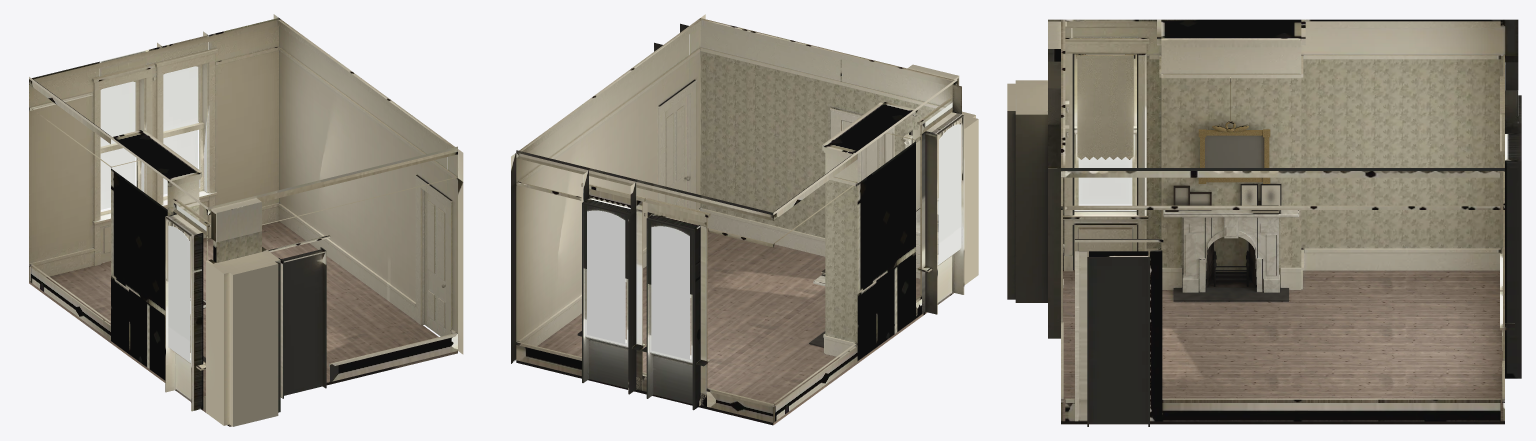
Rendered from muir-martinez-study-mobile.glb.
3 renders of one model, left to right at view 1: azimuth 30°, elevation 25°; view 2: azimuth 150°, elevation 25°; view 3: azimuth 270°, elevation 25°, orthographic. The views are drawn at different scales.
Visible parts, largest first — view 1: wall_east, wall_north, mouldings, artifact_washstand_alcove, chimney_breast, floor, artifact_north_windows, artifact_door_south, door_east, artifact_west_window, daylight_north_window_0, daylight_north_window_1 (+3 smaller); view 2: wall_south, wall_east, floor, chimney_breast, mouldings, artifact_north_windows, artifact_west_window, daylight_north_window_0, daylight_north_window_1, door_east, artifact_washstand_alcove, daylight_west_window (+2 smaller); view 3: wall_west, floor, mouldings, chimney_breast, door_east, artifact_washstand_alcove, artifact_west_window, artifact_west_window_shade, artifact_fireplace, artifact_north_windows, artifact_overmantel_mirror, artifact_door_south (+8 smaller).
Boxes of the visible parts, x1=… form: wall_east: x1=273, y1=14, x2=463, y2=354; wall_north: x1=29, y1=18, x2=278, y2=263; mouldings: x1=29, y1=19, x2=457, y2=381; artifact_washstand_alcove: x1=206, y1=247, x2=280, y2=426; chimney_breast: x1=111, y1=131, x2=199, y2=380; floor: x1=29, y1=221, x2=457, y2=426; artifact_north_windows: x1=92, y1=48, x2=217, y2=265; artifact_door_south: x1=267, y1=235, x2=330, y2=398; door_east: x1=414, y1=174, x2=452, y2=336; artifact_west_window: x1=165, y1=198, x2=210, y2=411; daylight_north_window_0: x1=100, y1=81, x2=135, y2=209; daylight_north_window_1: x1=163, y1=66, x2=197, y2=194; wall_south: x1=700, y1=25, x2=959, y2=237; wall_east: x1=511, y1=14, x2=705, y2=363; floor: x1=516, y1=228, x2=953, y2=425; chimney_breast: x1=825, y1=103, x2=915, y2=360; mouldings: x1=516, y1=18, x2=957, y2=422; artifact_north_windows: x1=577, y1=182, x2=710, y2=410; artifact_west_window: x1=917, y1=96, x2=964, y2=314; daylight_north_window_0: x1=651, y1=226, x2=690, y2=359; daylight_north_window_1: x1=587, y1=210, x2=625, y2=344; door_east: x1=658, y1=79, x2=696, y2=209; artifact_washstand_alcove: x1=903, y1=111, x2=978, y2=285; daylight_west_window: x1=938, y1=124, x2=961, y2=263; wall_west: x1=1048, y1=19, x2=1518, y2=269; floor: x1=1061, y1=270, x2=1504, y2=424; mouldings: x1=1061, y1=19, x2=1504, y2=421; chimney_breast: x1=1161, y1=19, x2=1301, y2=287; door_east: x1=1074, y1=239, x2=1163, y2=426; artifact_washstand_alcove: x1=1007, y1=80, x2=1069, y2=302; artifact_west_window: x1=1063, y1=38, x2=1149, y2=271; artifact_west_window_shade: x1=1076, y1=54, x2=1135, y2=159; artifact_fireplace: x1=1163, y1=210, x2=1299, y2=292; artifact_north_windows: x1=1500, y1=76, x2=1521, y2=381; artifact_overmantel_mirror: x1=1198, y1=77, x2=1270, y2=183; artifact_door_south: x1=1048, y1=168, x2=1064, y2=338.
Size of the model in its own units: 4.7 by 3.43 by 6.23.
Materials: 7 (7 with a texture image).
